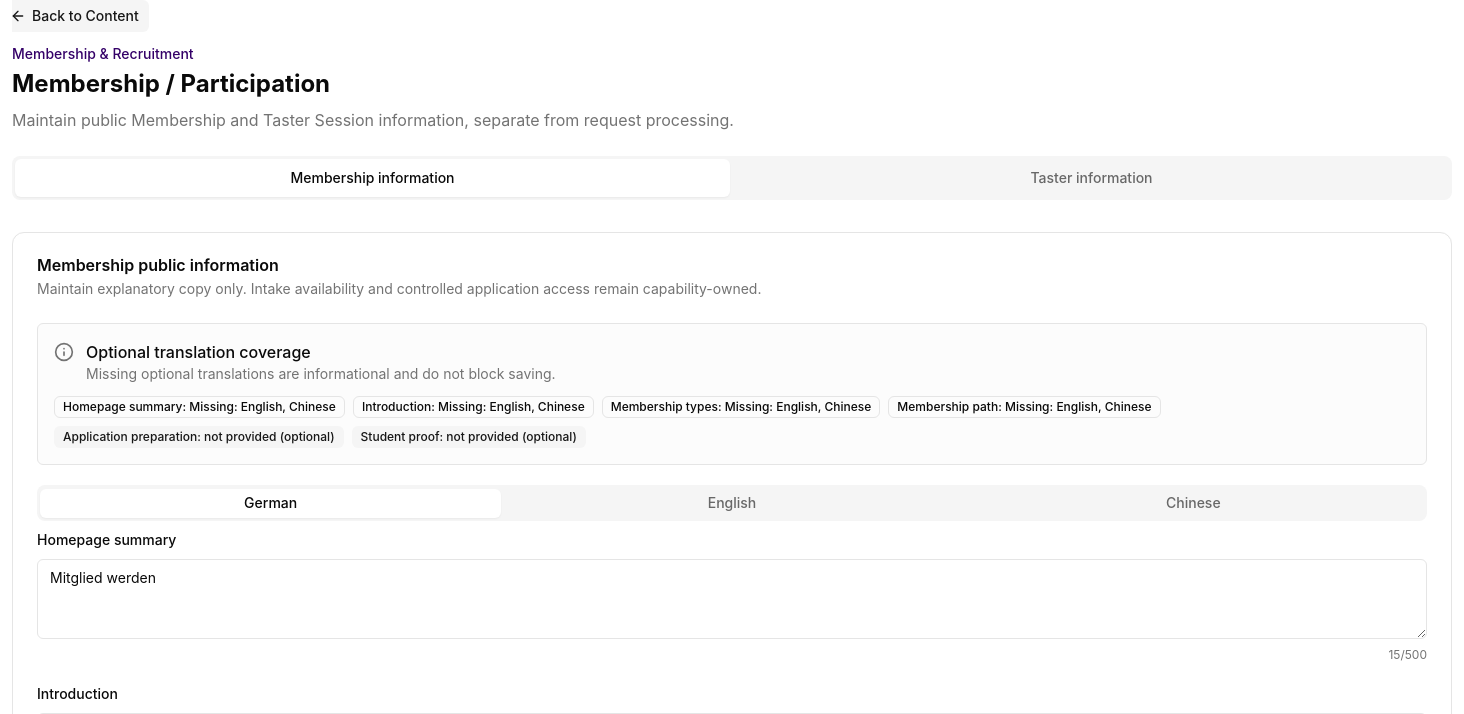
Scenario: MembershipParticipationContentEditor › contains only Membership and Taster information as local tasks
Expected: the text "Membership public information" is shown, x1=37 y1=255 x2=279 y2=275
Expected: the element named "Translation completeness" is shown, x1=54 y1=396 x2=1160 y2=448
What coordinates should you click on to do the following:
click the tab "Taster information"
I would click on:
 (1092, 178)
Its box is x1=734 y1=159 x2=1449 y2=197.
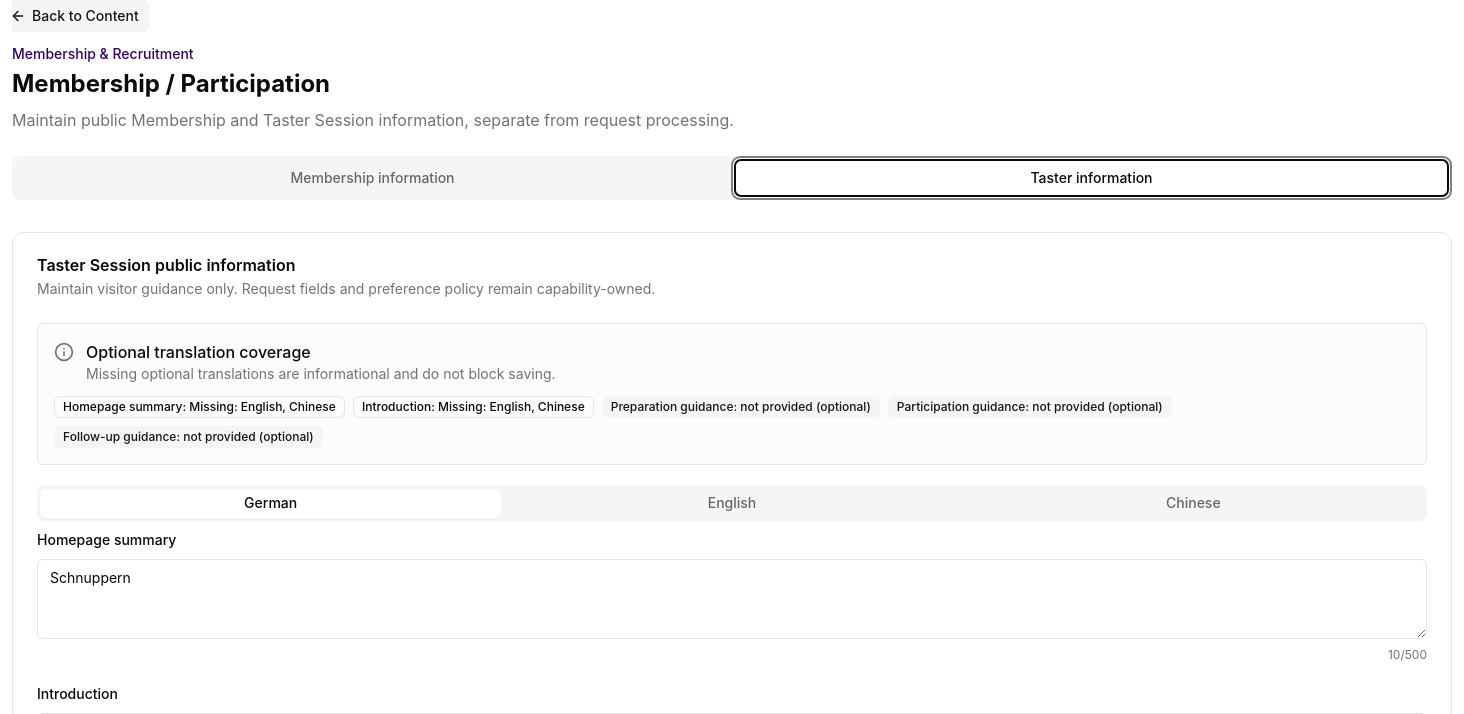
Expected: the element named "Translation completeness" is shown, x1=54 y1=396 x2=1172 y2=448
Now the text "Taster Session public information" is shown, box x1=37 y1=255 x2=295 y2=275
Now the text "Preparation guidance: not provided (optional)" is shown, box x1=602 y1=396 x2=880 y2=418
